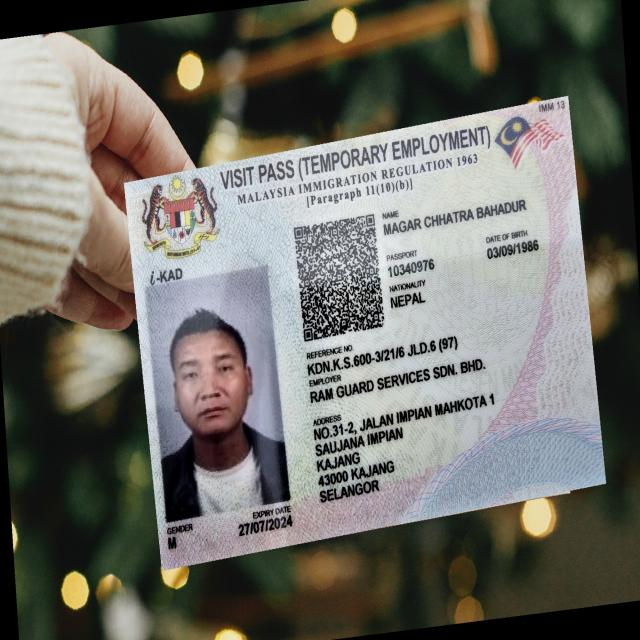ikad-temp: (123, 94, 607, 570)
